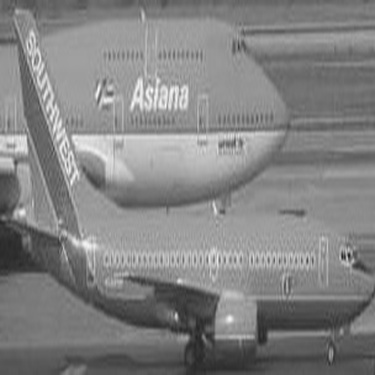airplane: (15, 13, 364, 352), (6, 1, 289, 191)
